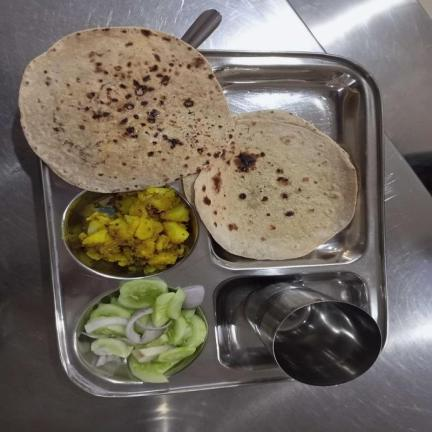Plate: (39, 50, 388, 399)
Roti: (17, 25, 235, 191), (185, 110, 356, 264)
Salad: (84, 277, 206, 384)
Zeera Aalu: (81, 186, 192, 276)
